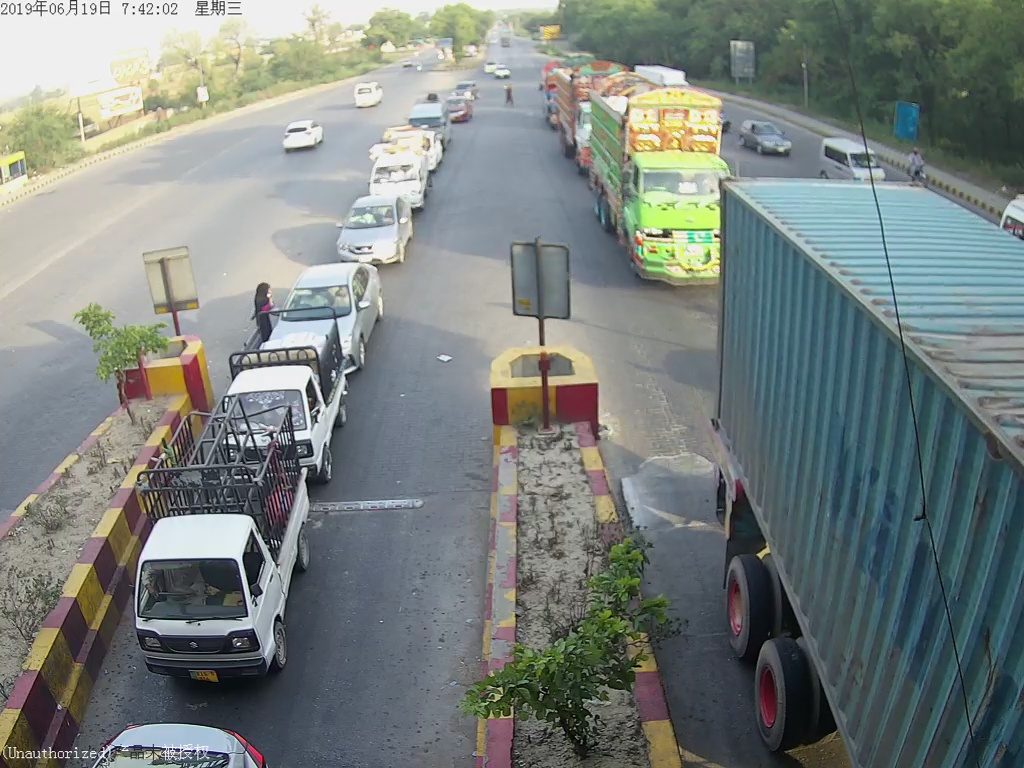Cat-1: (133, 415, 326, 698), (219, 314, 348, 422)
Cat-4: (595, 85, 717, 280)
